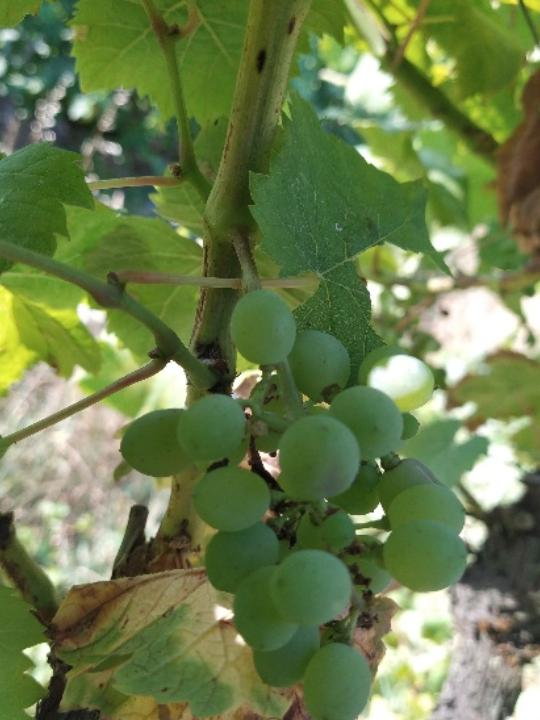grape: (118, 280, 472, 720)
